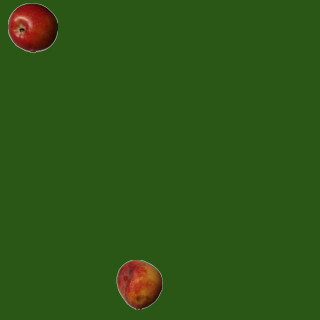Apple Braeburn: (7, 2, 57, 52)
Peach: (114, 259, 164, 309)
